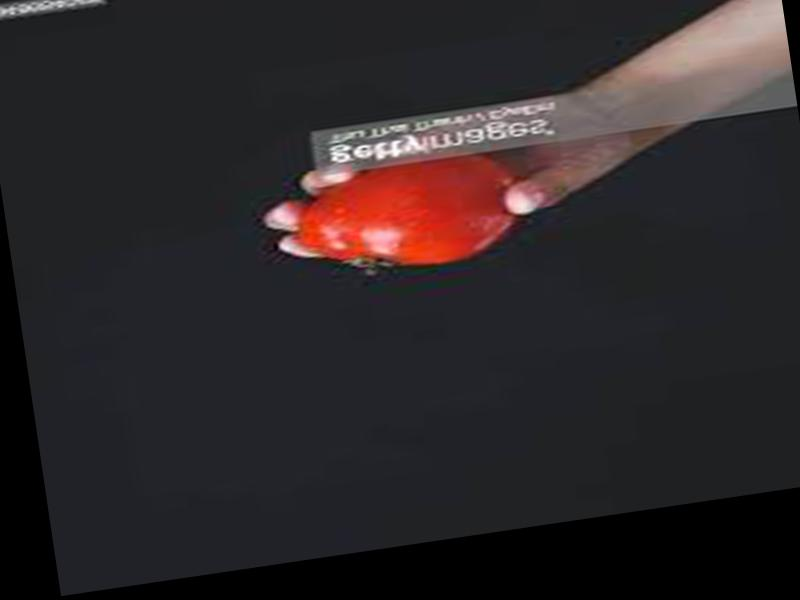Tomato: (282, 144, 519, 284)
